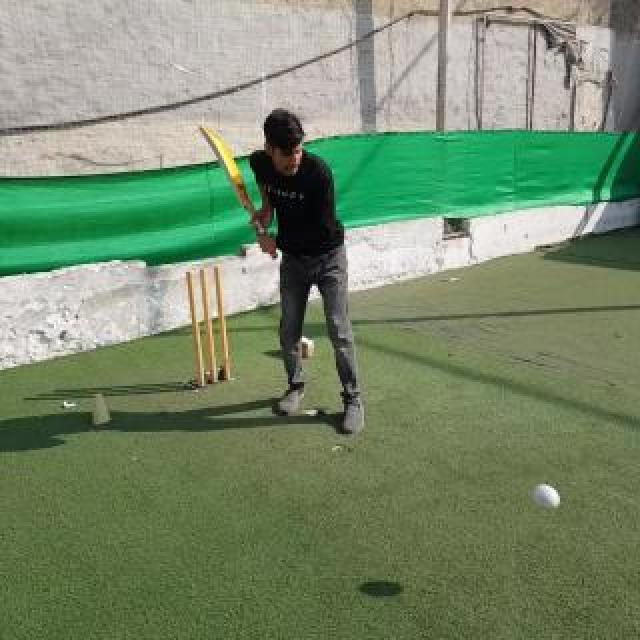ball: (532, 482, 560, 512)
bat: (198, 126, 278, 260)
